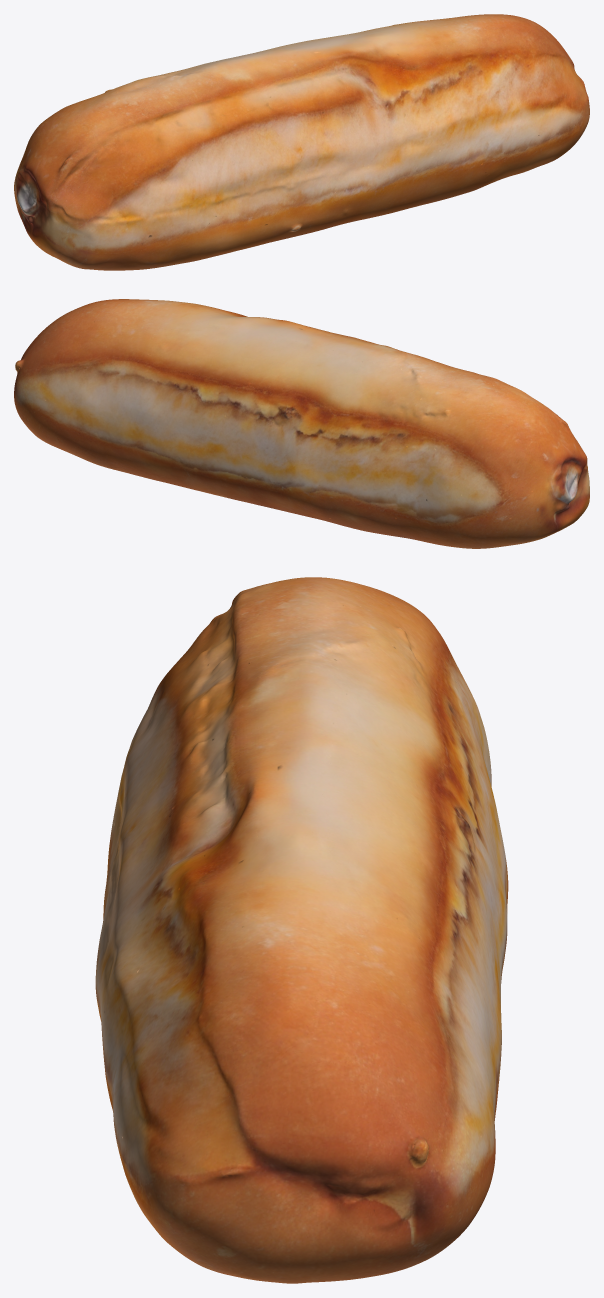
File: Bread.fbx
The picture shows the model from 3 angles, top to bottom: view 1: azimuth 30°, elevation 25°; view 2: azimuth 150°, elevation 25°; view 3: azimuth 270°, elevation 25°; orthographic projection. The views are drawn at different scales.
Visible parts, largest first — view 1: Mesh_0; view 2: Mesh_0; view 3: Mesh_0.
Boxes of the visible parts, x1=… form: Mesh_0: x1=14, y1=14, x2=589, y2=270; Mesh_0: x1=14, y1=299, x2=589, y2=548; Mesh_0: x1=95, y1=577, x2=508, y2=1283.
Bounding box in the file's own units: 200 × 57.73 × 66.64.
1 material, 1 textured.
